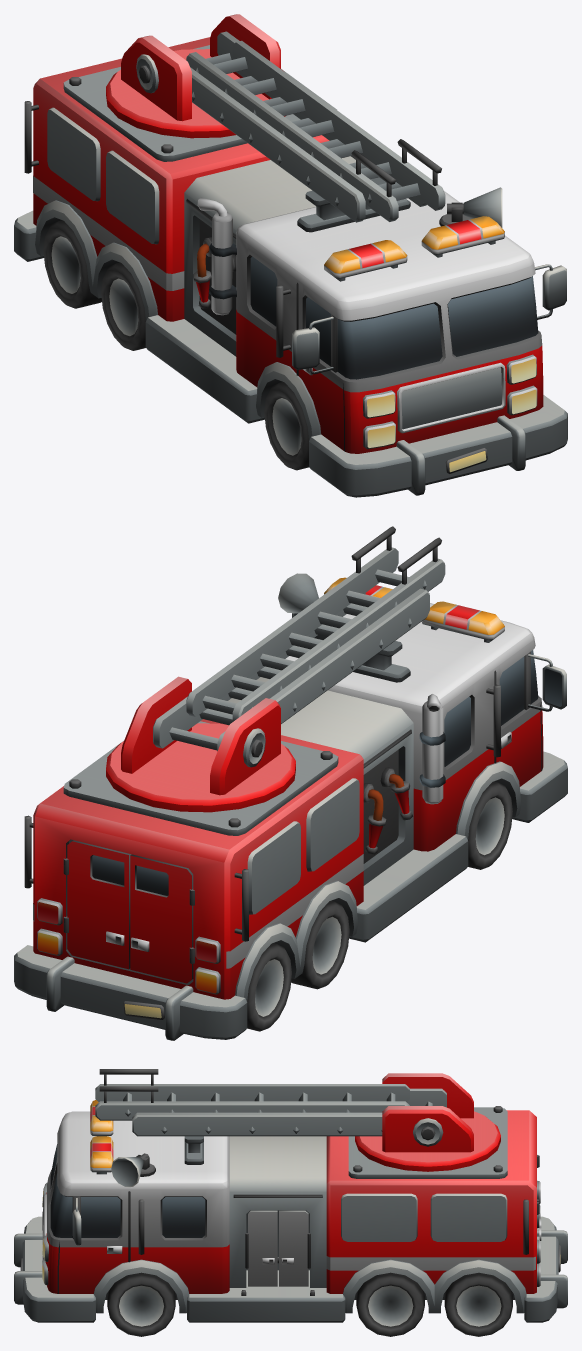
File: VHC0110022.FBX
3 views of the same model, one above another, from view 1: azimuth 30°, elevation 25°; view 2: azimuth 150°, elevation 25°; view 3: azimuth 270°, elevation 25° (orthographic). The views are drawn at different scales.
Parts seen in each view (by area): view 1: smVHC0110022; view 2: smVHC0110022; view 3: smVHC0110022.
Boxes of the visible parts, bbox=[...] form: smVHC0110022: bbox=[14, 14, 567, 497]; smVHC0110022: bbox=[14, 526, 567, 1040]; smVHC0110022: bbox=[14, 1069, 567, 1336].
Bounding box in the file's own units: 3.84 × 3.9 × 8.83.
1 material, 1 textured.
